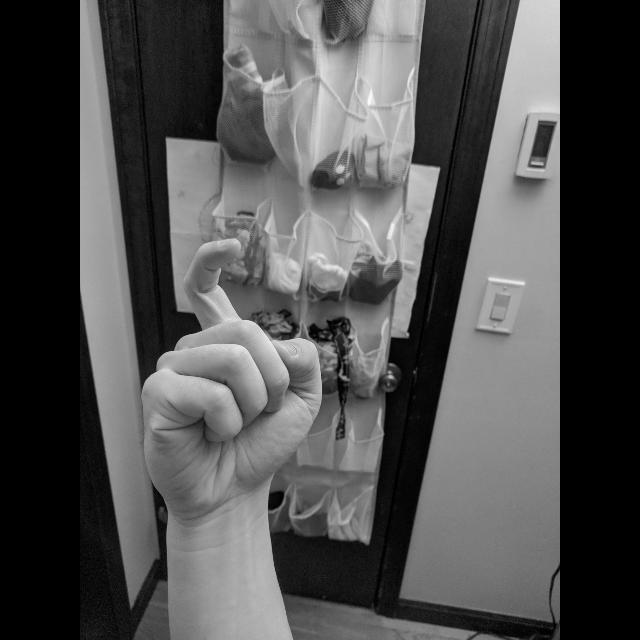X: (137, 234, 327, 516)
